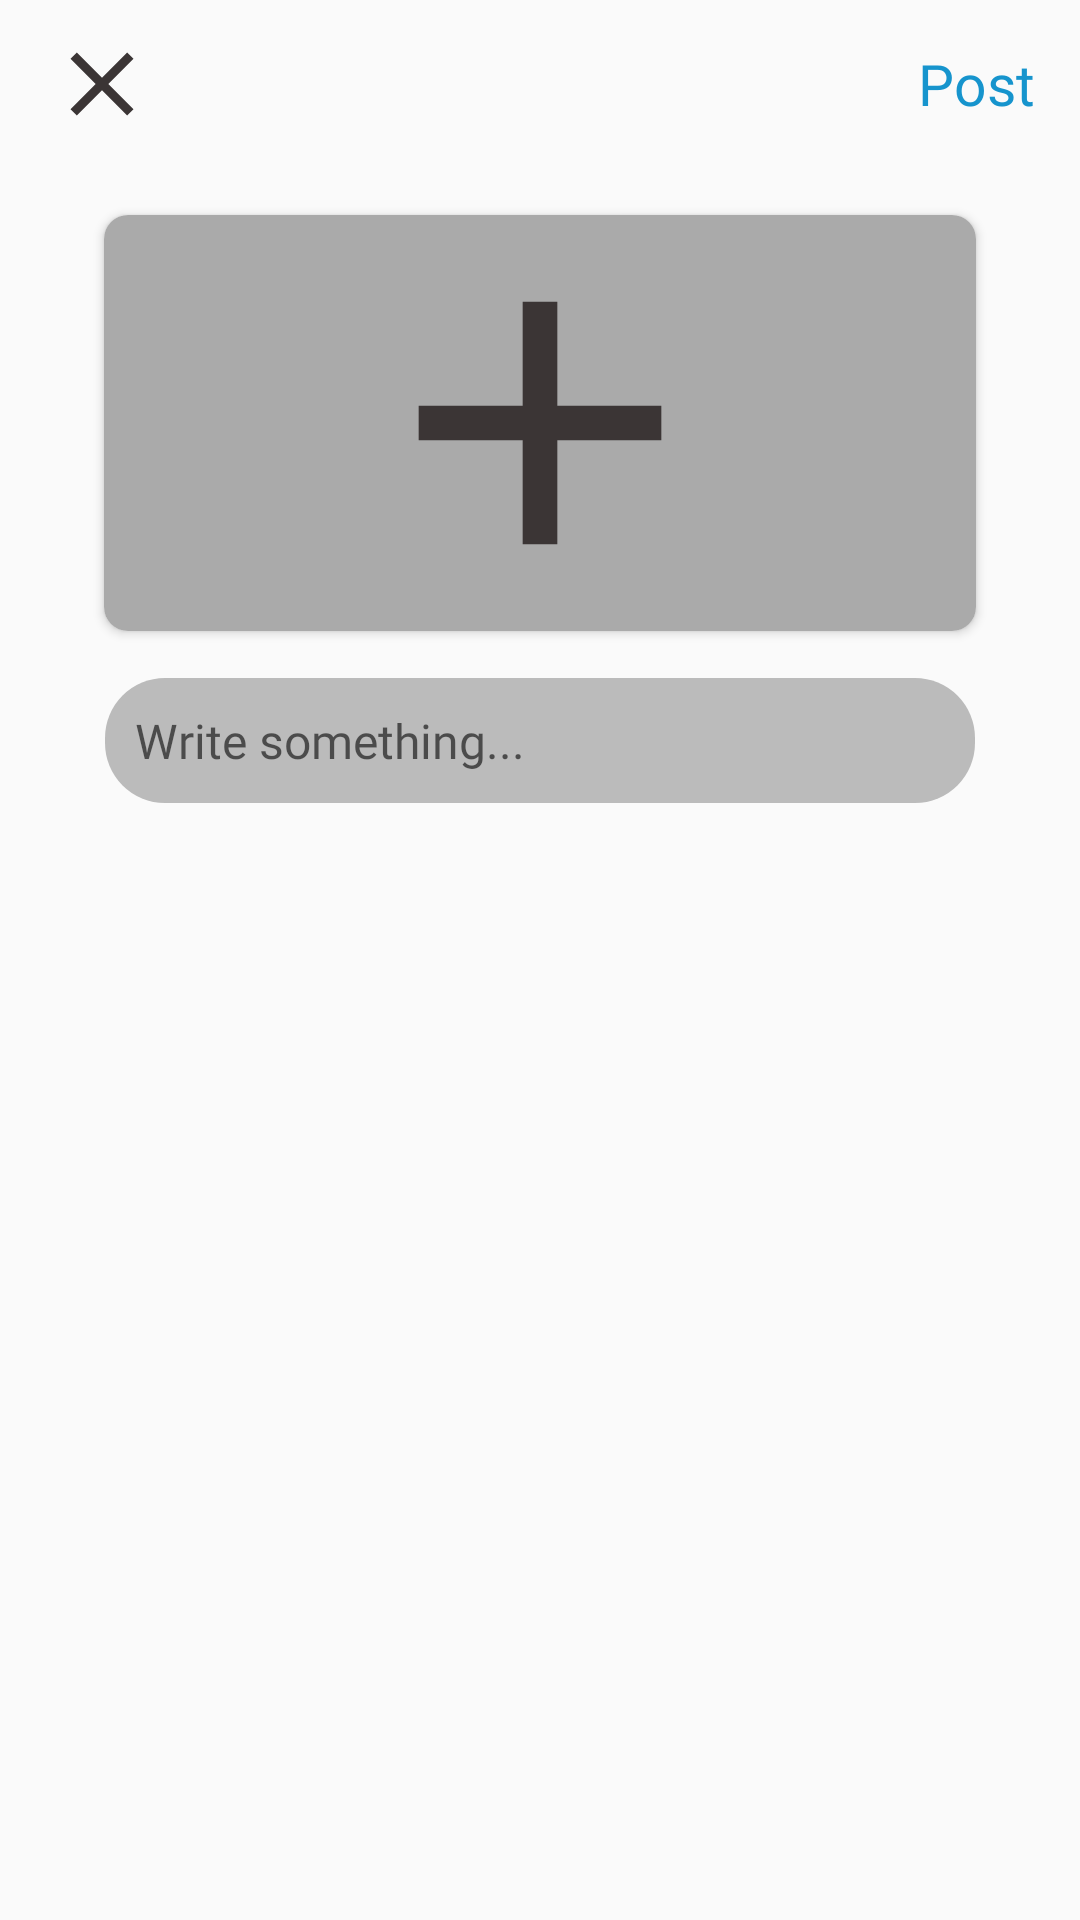

Named icons in this screenshot (1080x1920) and their bounding boxes, (x1, y1, x2, y2):
clear: (70, 52, 134, 116)
